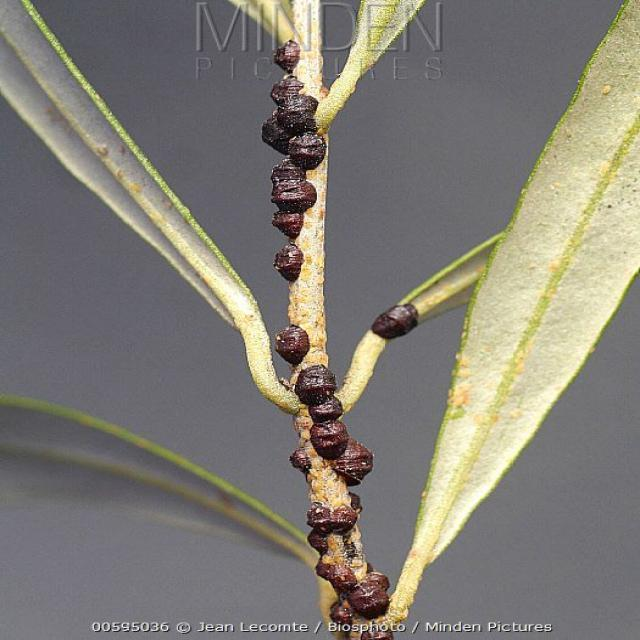BlackScale: (262, 40, 326, 282), (295, 366, 372, 486), (307, 492, 361, 554), (346, 570, 386, 620), (372, 302, 417, 340), (314, 560, 358, 594), (276, 324, 308, 366), (289, 451, 311, 479)
